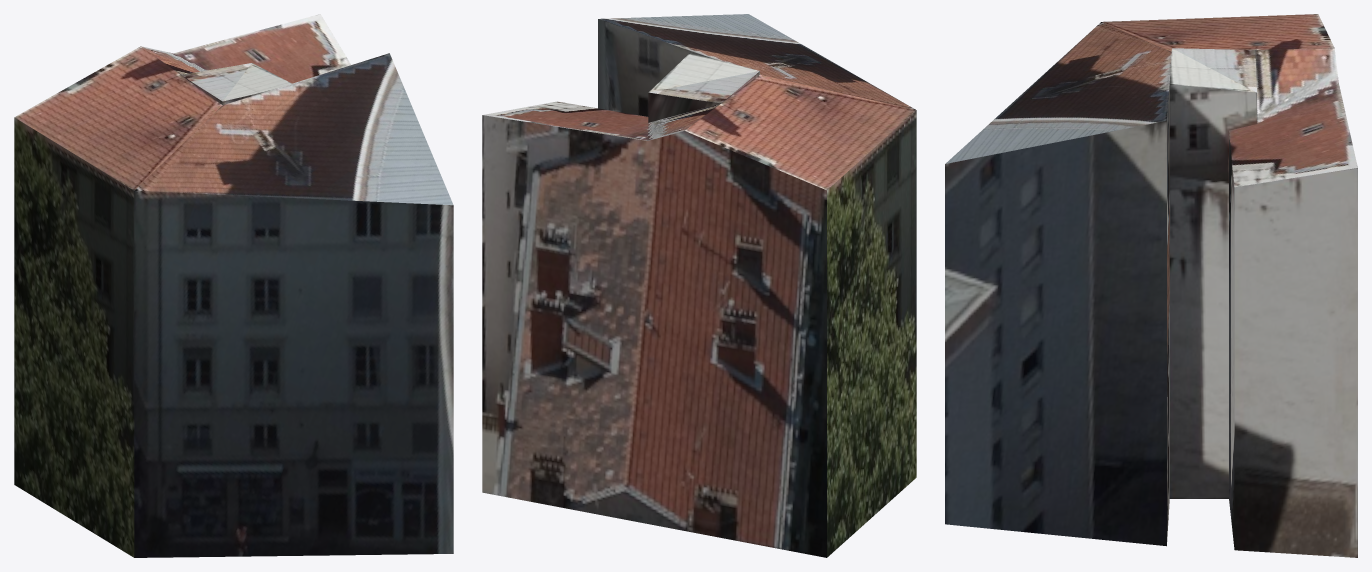
3 views of the same model, side by side, from view 1: azimuth 30°, elevation 25°; view 2: azimuth 150°, elevation 25°; view 3: azimuth 270°, elevation 25° (orthographic). The views are drawn at different scales.
Parts seen in each view (by area): view 1: Z_UP; view 2: Z_UP; view 3: Z_UP.
Part boxes in pixels (x1,y1,x2,y2): Z_UP: (14,14,453,557); Z_UP: (482,14,916,557); Z_UP: (945,14,1357,557).
Size of the model in its own units: 17.21 by 20.8 by 18.3.
Materials: 2 (1 with a texture image).
